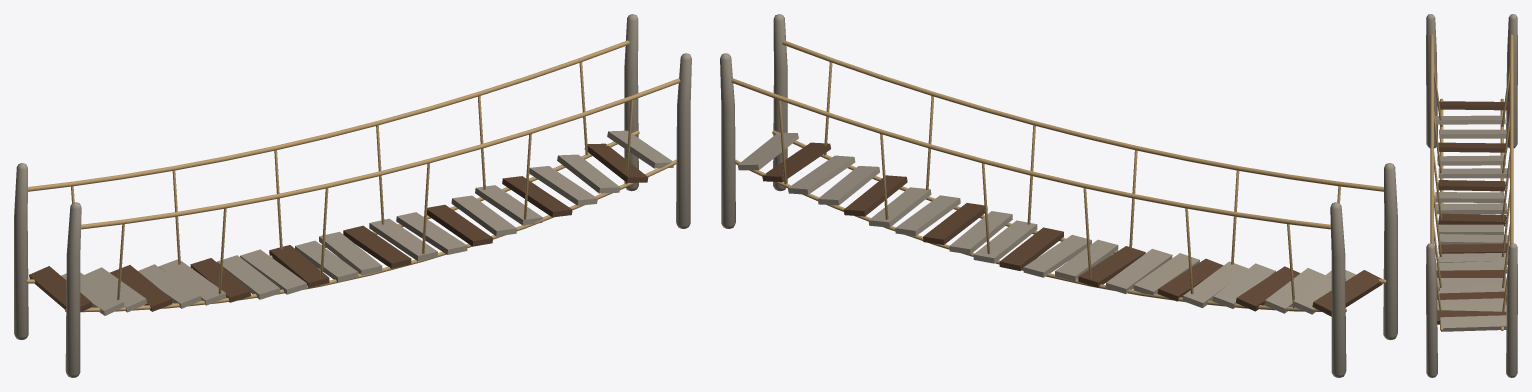
Rendered from sh_rope_bridge.fbx.
3 renders of one model, left to right at view 1: azimuth 30°, elevation 25°; view 2: azimuth 150°, elevation 25°; view 3: azimuth 270°, elevation 25°, orthographic. The views are drawn at different scales.
Visible parts, largest first — view 1: SH_Rope_Bridge; view 2: SH_Rope_Bridge; view 3: SH_Rope_Bridge.
Part boxes in pixels (<box>): SH_Rope_Bridge: <box>14,14,691,377</box>; SH_Rope_Bridge: <box>720,14,1397,377</box>; SH_Rope_Bridge: <box>1426,14,1517,377</box>.
Size of the model in its own units: 123 by 33.07 by 20.32.
